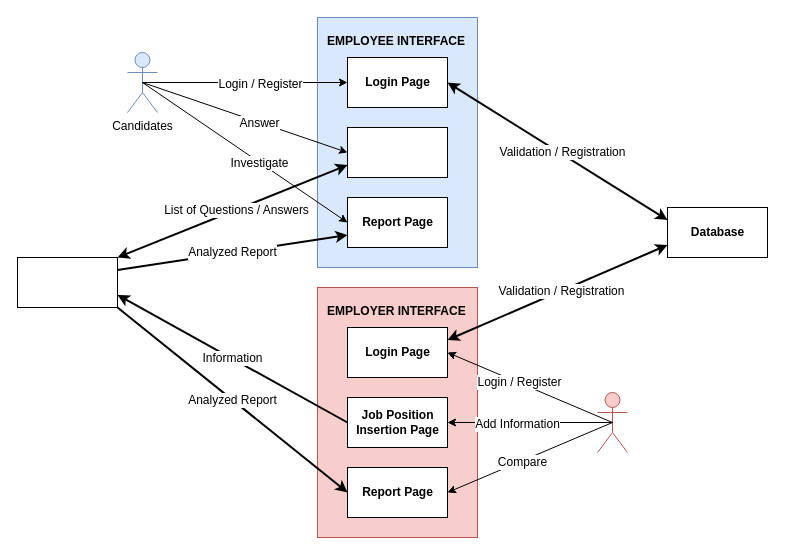
The diagram is 785 pixels wide and 555 high, and some of its shapes have lost their labels. The shapes that lost their labels are listed below. From the top down, each one's box as (x1, y1, x2, y2) in pixels, then its label:
(346, 126, 448, 178): Quiz Page
(16, 256, 118, 308): LLama 2
(596, 392, 628, 452): Company
